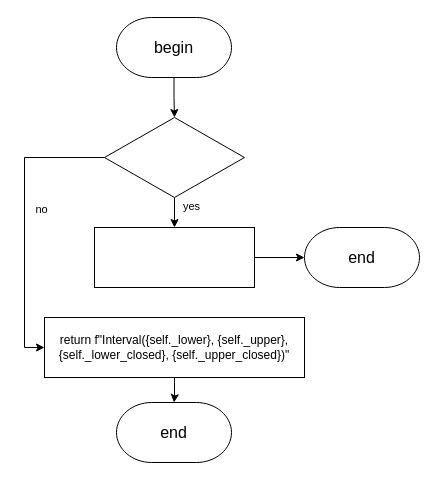
This 437x480 diagram has some shape labels left out. Here are the shapes that lost their labels. From the top down, the centre of each, then its label:
the point at 174,157: self.is_empty()
the point at 174,257: return "Interval.empty()"
